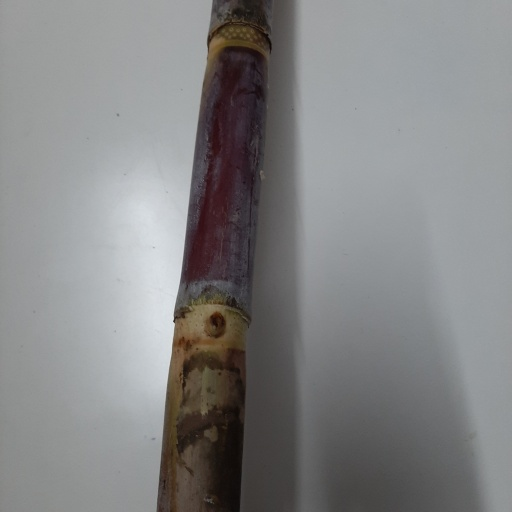Bud: (205, 311, 225, 340)
